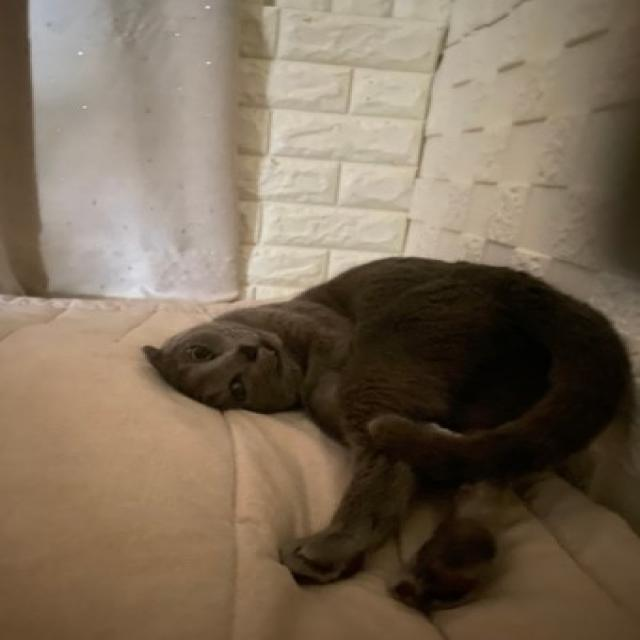cat: (137, 247, 640, 607)
